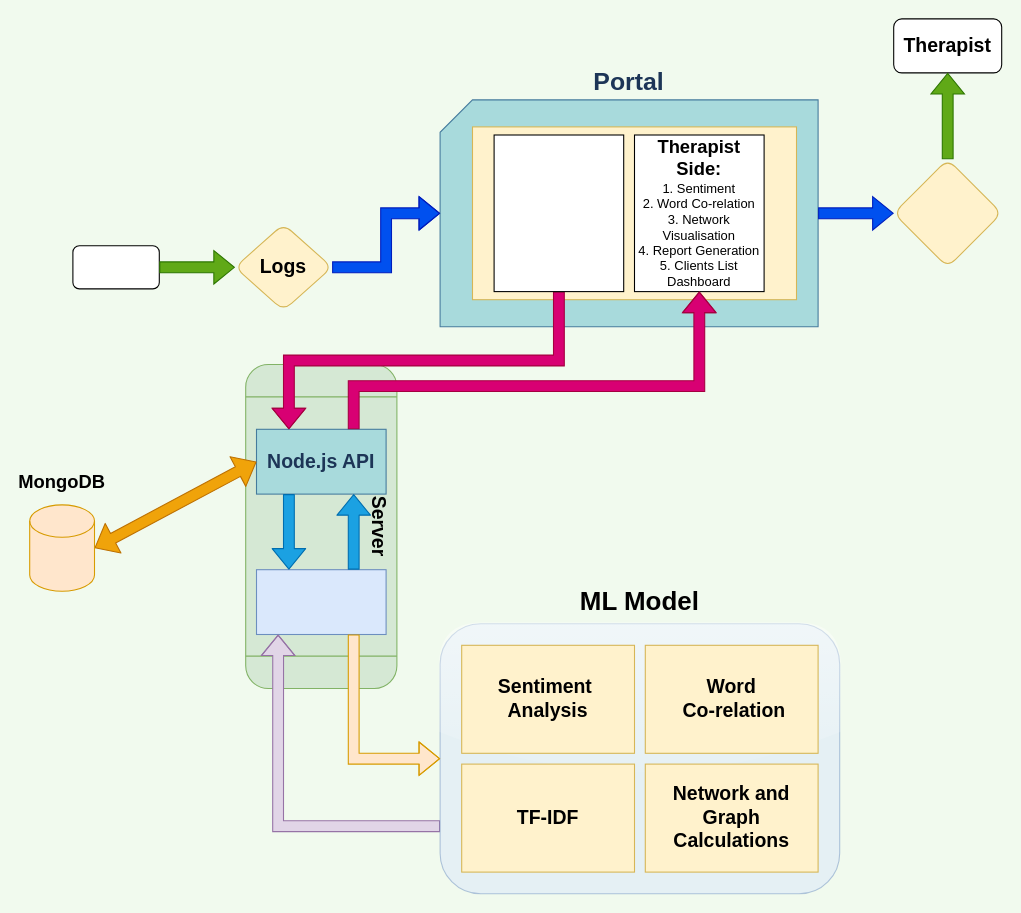
Some shapes in this 1021 by 913 pixel diagram are drawn without their labels. The centre of each missing label's shape, as x and y in pixels:
"Client" belongs at point 115,267.
"Client Side: 1. Journalling" belongs at point 558,213.
"Flask API" belongs at point 320,601.
"Reports" belongs at point 947,212.
